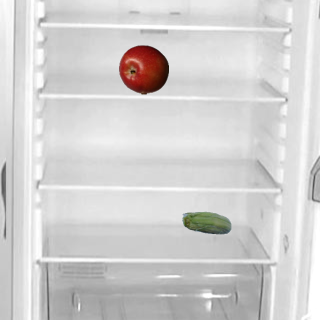Apple Braeburn: (118, 44, 168, 94)
Corn Husk: (181, 199, 231, 249)
